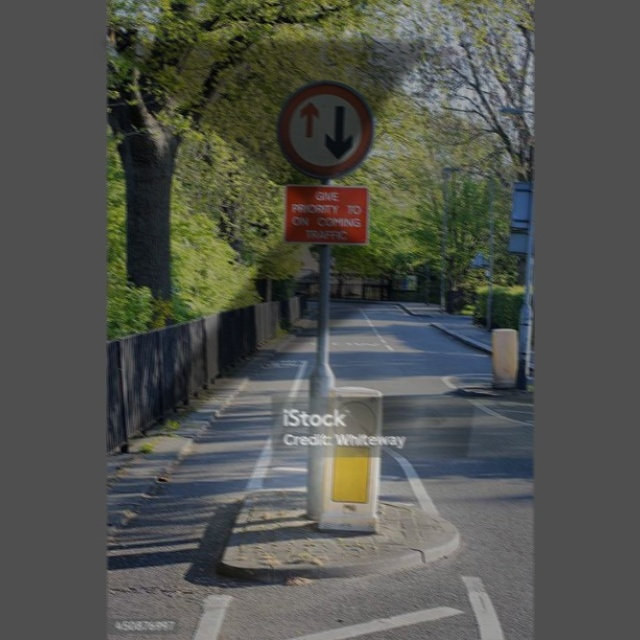Priority_for_Oncoming_Traffic: (280, 83, 374, 178)
